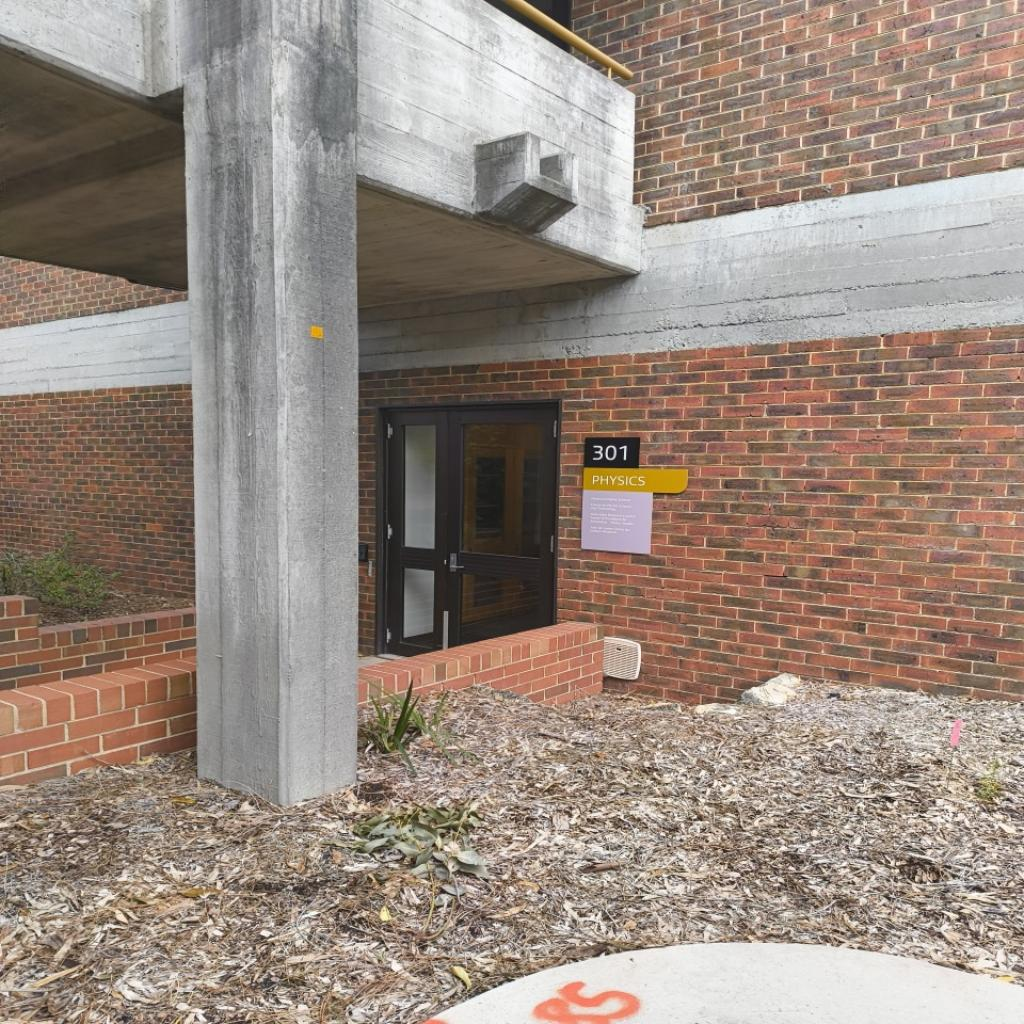BuildingCodes: (590, 442, 630, 464)
